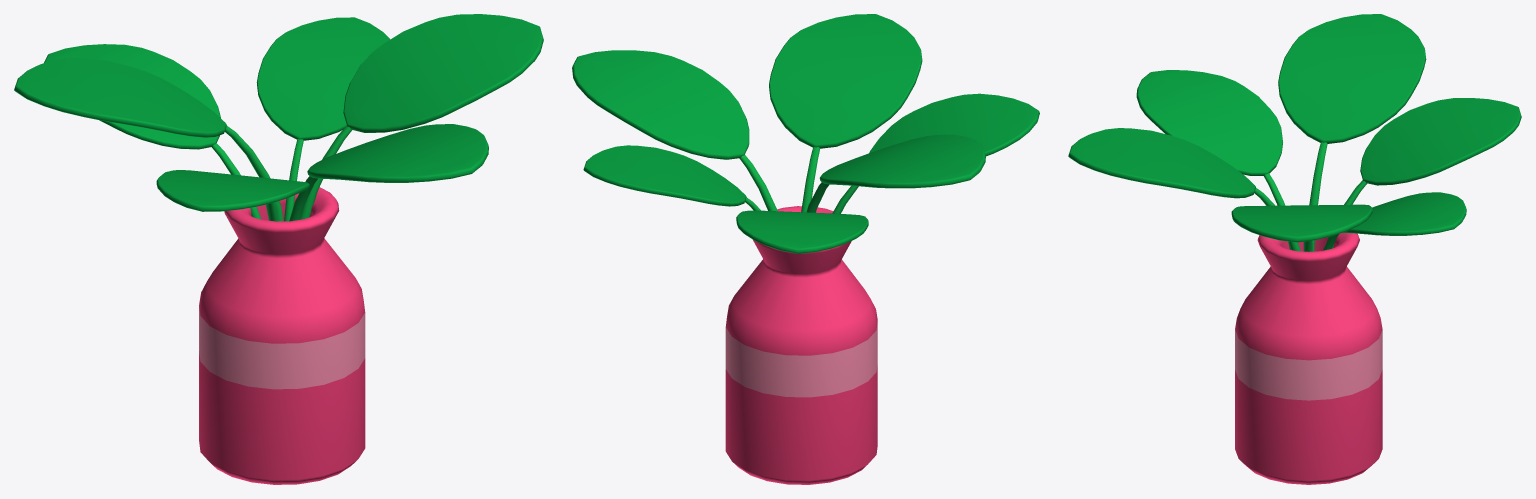
Rendered from Town_12_Plant_5.glb.
The picture shows the model from 3 angles, left to right: view 1: azimuth 30°, elevation 25°; view 2: azimuth 150°, elevation 25°; view 3: azimuth 270°, elevation 25°; orthographic projection. The views are drawn at different scales.
Visible parts, largest first — view 1: Town_12_Plant_5; view 2: Town_12_Plant_5; view 3: Town_12_Plant_5.
Boxes of the visible parts, x1,y1,x2,y2 form: Town_12_Plant_5: (14,14,543,484); Town_12_Plant_5: (572,14,1039,484); Town_12_Plant_5: (1068,14,1521,484).
Bounding box in the file's own units: 0.9268 × 0.7257 × 0.8608.
1 material, 1 textured.
